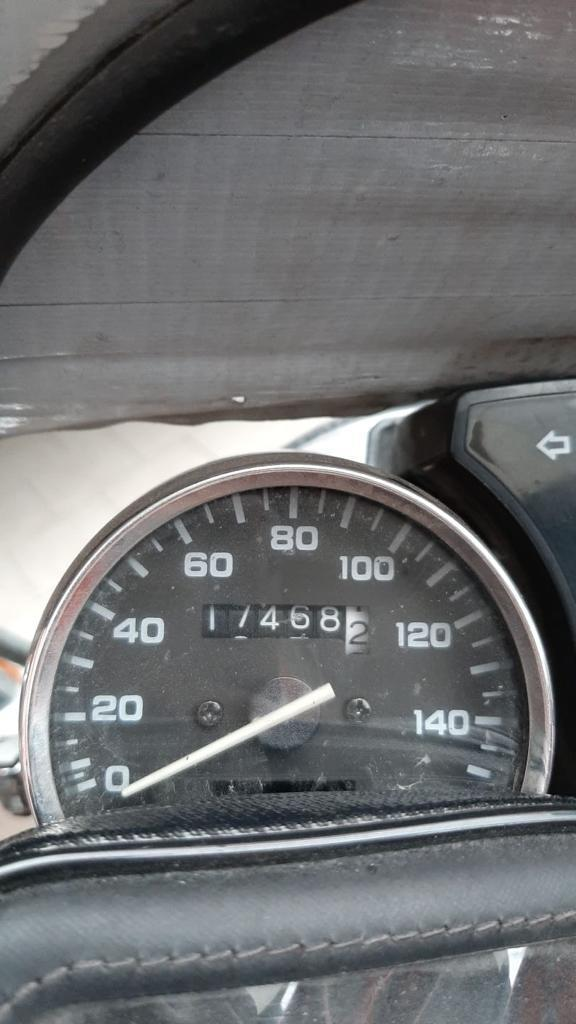1: (206, 601, 218, 639)
2: (347, 619, 371, 647)
4: (259, 604, 279, 633)
6: (289, 603, 312, 633)
7: (232, 598, 253, 630)
8: (317, 603, 342, 637)
odometer: (193, 595, 377, 661)
